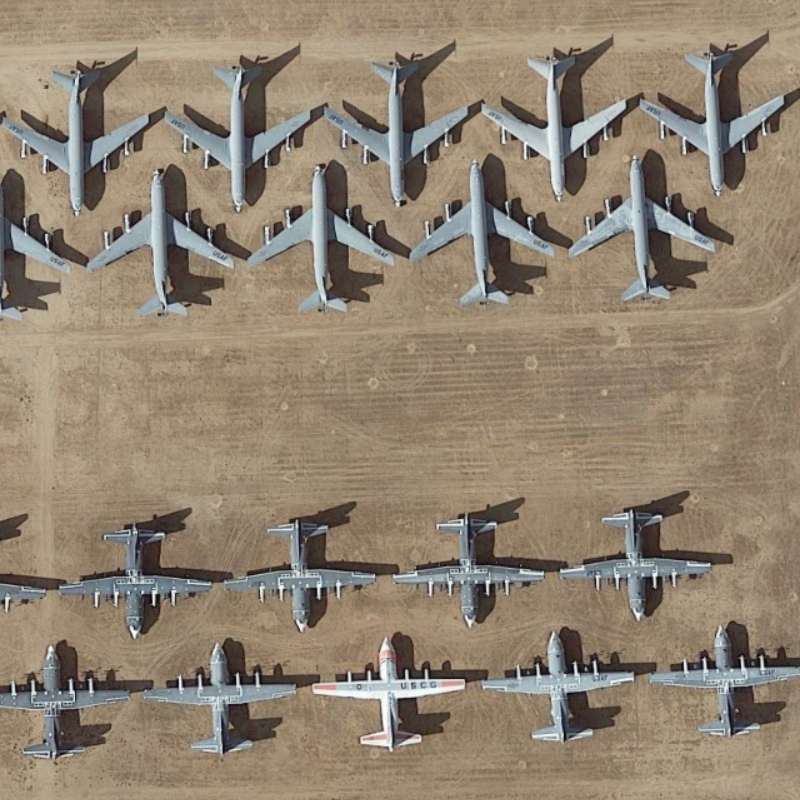A14: (83, 153, 244, 326), (561, 151, 734, 309), (323, 46, 479, 209), (478, 45, 643, 196), (165, 56, 320, 216), (640, 32, 792, 194), (409, 156, 567, 311), (249, 161, 402, 317), (1, 62, 154, 214)
A2: (310, 628, 476, 758), (484, 622, 649, 752), (556, 502, 724, 619), (217, 516, 382, 635), (390, 509, 554, 627), (61, 518, 218, 640), (146, 638, 307, 755), (652, 617, 800, 739), (5, 643, 131, 763)
